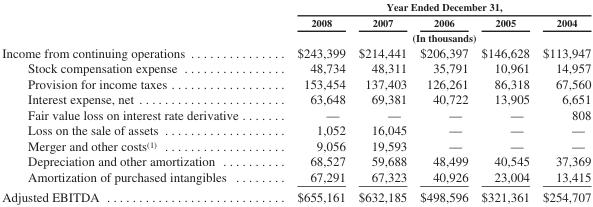table: (1, 0, 590, 204)
table column: (1, 0, 267, 204), (267, 0, 351, 204), (412, 0, 474, 204), (351, 0, 412, 204), (474, 0, 535, 204), (535, 0, 590, 204)
table column header: (1, 0, 590, 44)
table row: (1, 168, 590, 186), (1, 186, 590, 204), (1, 44, 590, 60), (1, 75, 590, 91), (1, 106, 590, 122), (1, 137, 590, 153), (1, 14, 590, 29), (1, 29, 590, 44), (1, 60, 590, 75), (1, 91, 590, 106), (1, 122, 590, 137), (1, 153, 590, 168), (1, 0, 590, 14)
table spanning cell: (267, 29, 590, 44), (267, 0, 590, 14)
